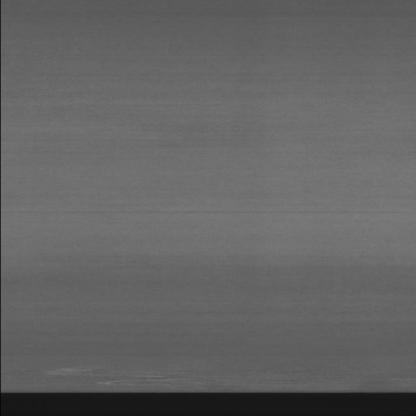silk_spot: (37, 360, 191, 390)
